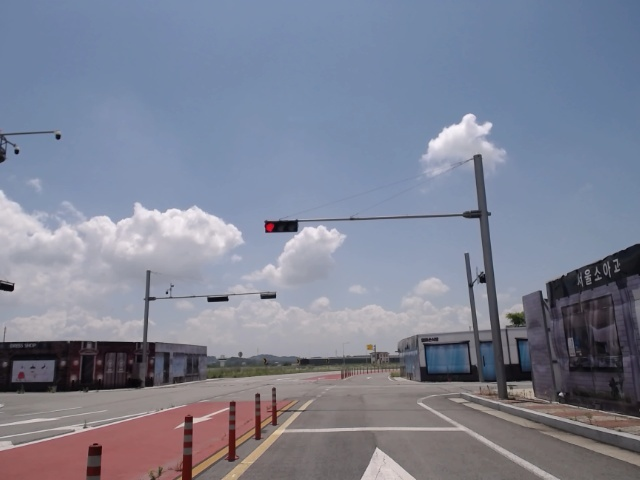red_3: (264, 218, 299, 234)
